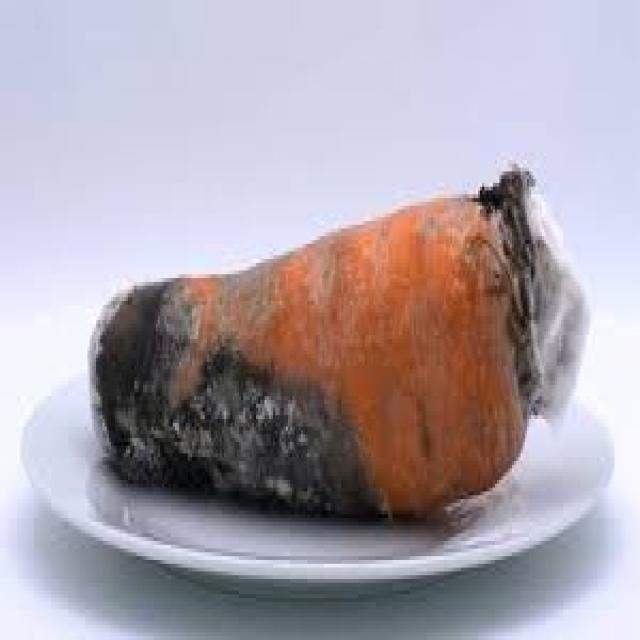Stale_Carrot: (90, 174, 584, 517)
